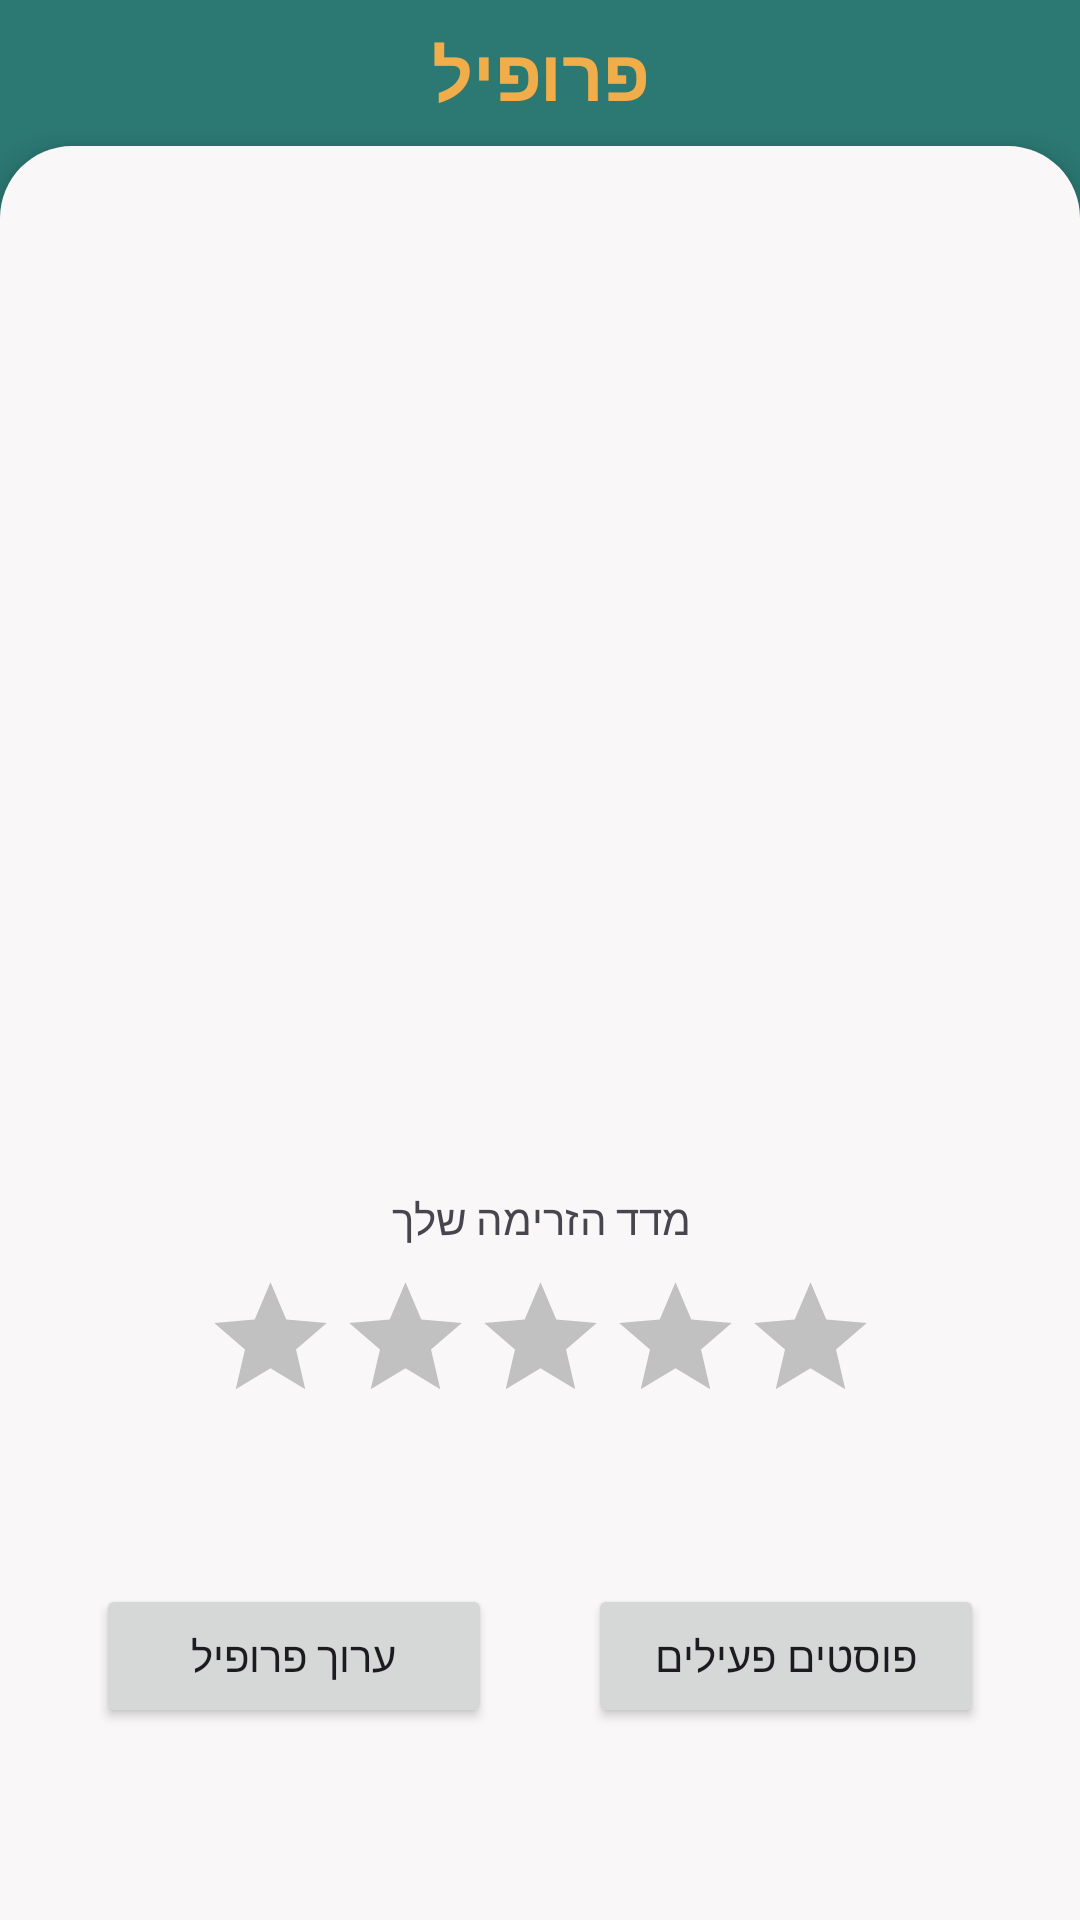

Named icons in this screenshot (1080x1920) and their bounding boxes, [x1, y1, x2, y2]:
star: [215, 1283, 326, 1389], [350, 1283, 461, 1389], [485, 1283, 596, 1389], [620, 1283, 731, 1389], [755, 1283, 866, 1389]
